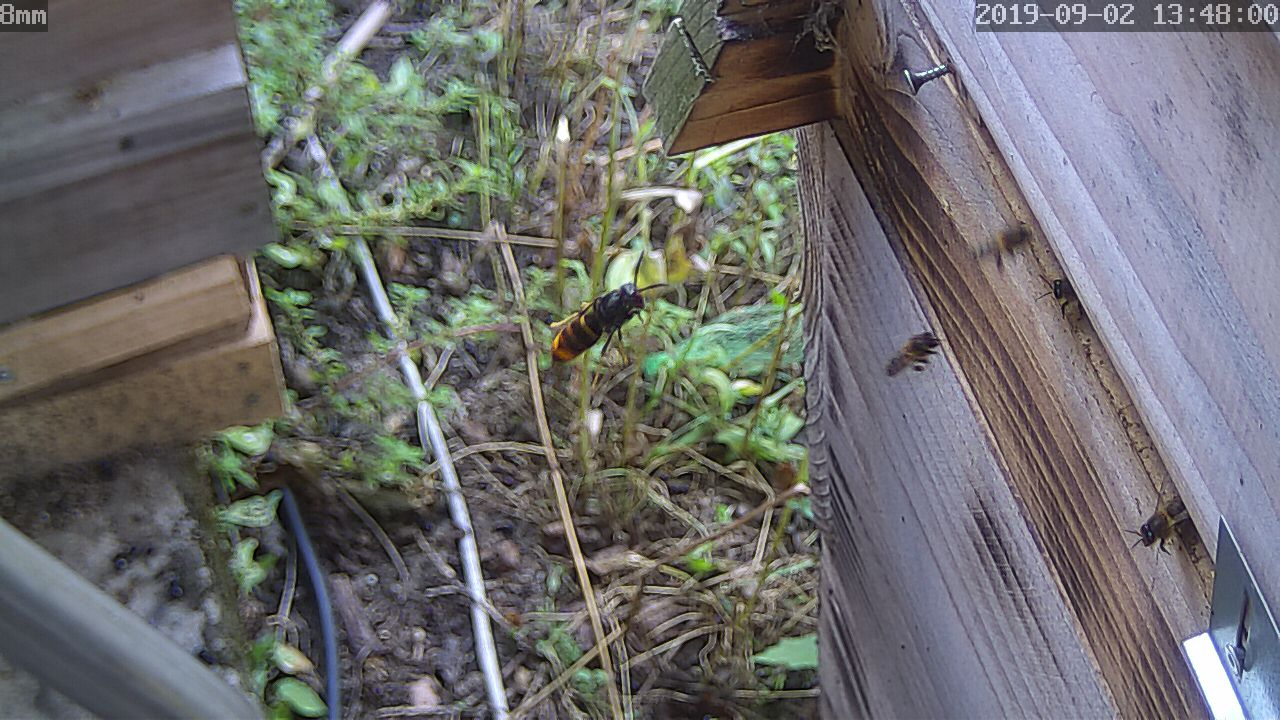bee: (1128, 493, 1194, 561), (996, 211, 1047, 262)
hornet: (534, 273, 654, 375)
